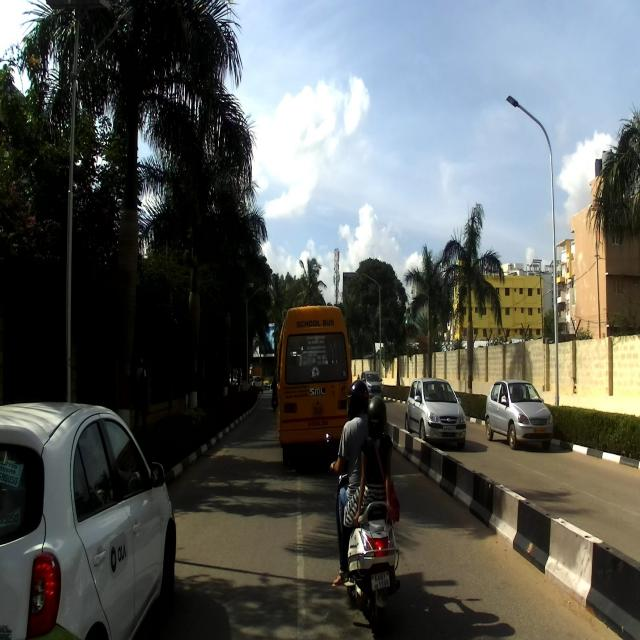bus: (276, 305, 352, 468)
car: (484, 374, 554, 450), (403, 375, 467, 450)
scooter: (324, 434, 401, 637)
